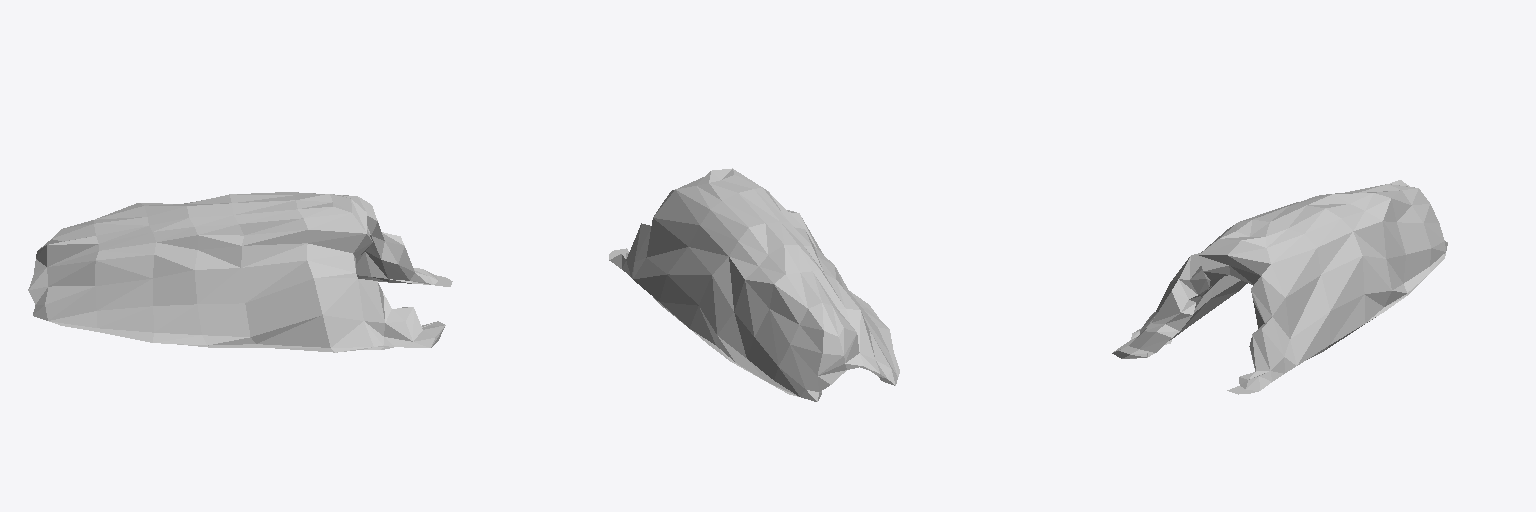
Rendered from CaveRemix.obj.
The picture shows the model from 3 angles: view 1: azimuth 30°, elevation 25°; view 2: azimuth 150°, elevation 25°; view 3: azimuth 270°, elevation 25°; orthographic projection.
Visible parts, largest first — view 1: pCube33; view 2: pCube33; view 3: pCube33.
Part boxes in pixels (bbox=[...]): pCube33: bbox=[28, 192, 452, 352]; pCube33: bbox=[609, 168, 899, 401]; pCube33: bbox=[1112, 180, 1447, 394].
Bounding box in the file's own units: 16.67 × 4.79 × 13.83.